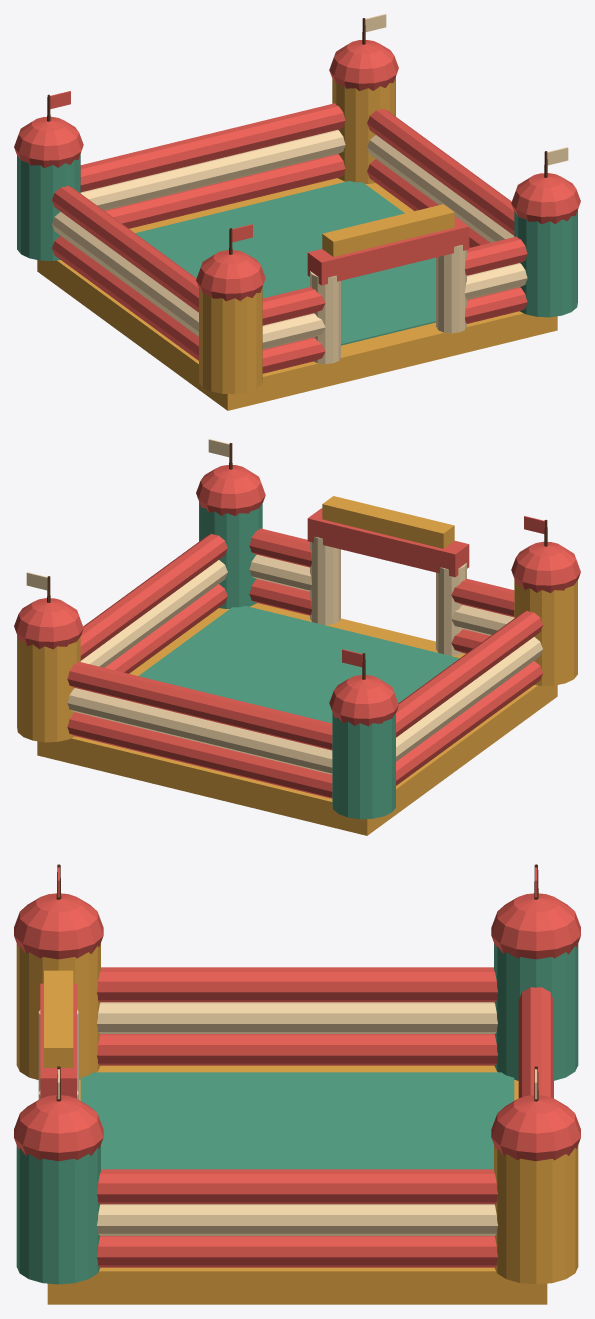
The model's file is ParkParkBounceHouse.obj.
3 renders of one model, top to bottom at view 1: azimuth 30°, elevation 25°; view 2: azimuth 150°, elevation 25°; view 3: azimuth 270°, elevation 25°, orthographic. The views are drawn at different scales.
Visible parts, largest first — view 1: ParkParkBounceHouse; view 2: ParkParkBounceHouse; view 3: ParkParkBounceHouse.
Part boxes in pixels (x1,y1,x2,y2): ParkParkBounceHouse: [14, 14, 580, 410]; ParkParkBounceHouse: [14, 439, 580, 835]; ParkParkBounceHouse: [14, 864, 580, 1304].
Size of the model in its own units: 15.5 by 7 by 15.44.
